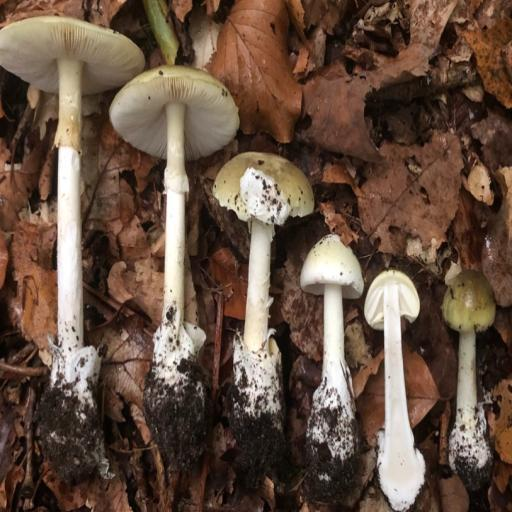mushroom: (0, 9, 147, 475), (77, 59, 243, 465), (215, 150, 314, 481), (361, 270, 436, 508), (298, 237, 366, 498), (443, 266, 497, 488)
